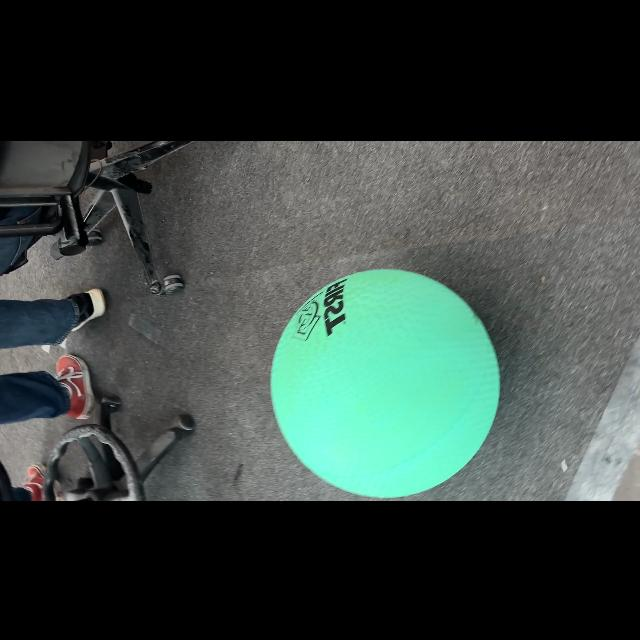ALGAE: (269, 267, 501, 497)
